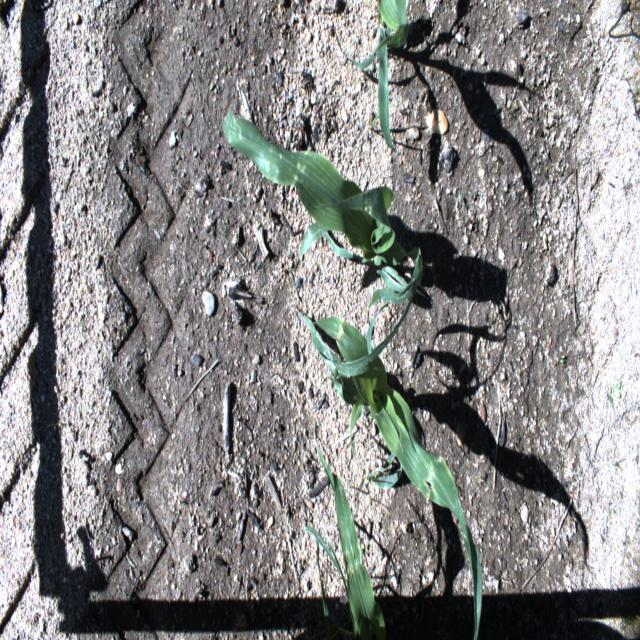crop: (310, 316, 482, 639), (222, 108, 422, 376), (302, 415, 386, 639), (330, 0, 409, 153)
